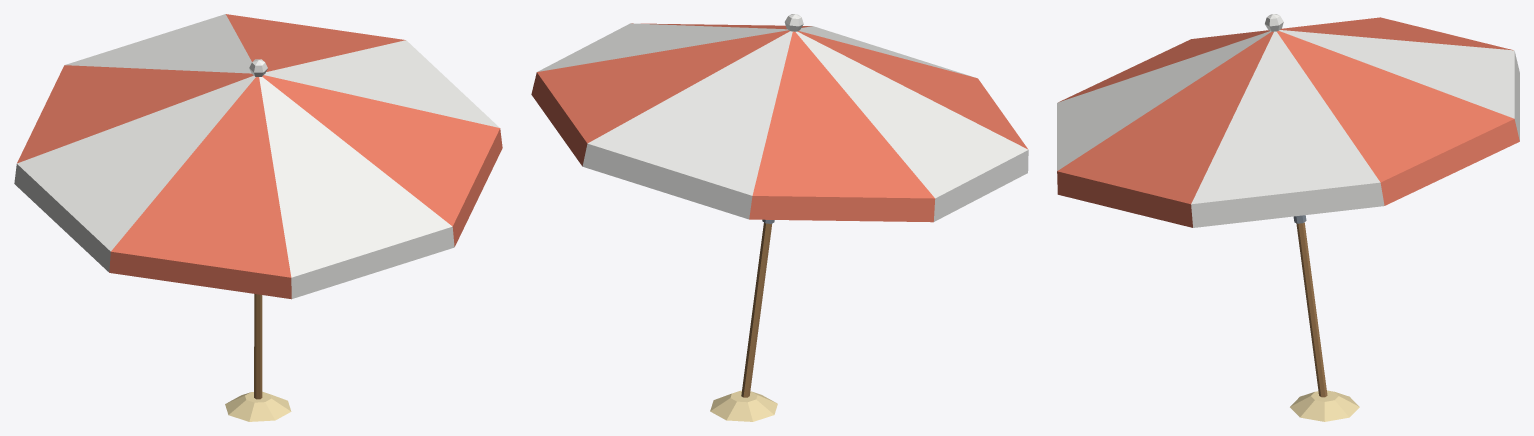
Rendered from beach_umbrella.glb.
The picture shows the model from 3 angles, left to right: view 1: azimuth 30°, elevation 25°; view 2: azimuth 150°, elevation 25°; view 3: azimuth 270°, elevation 25°; orthographic projection. The views are drawn at different scales.
Visible parts, largest first — view 1: Umbrella; view 2: Umbrella; view 3: Umbrella.
Boxes of the visible parts, x1,y1,x2,y2 form: Umbrella: (14, 14, 502, 421); Umbrella: (531, 14, 1028, 421); Umbrella: (1057, 14, 1519, 421).
Size of the model in its own units: 2.65 by 2.39 by 2.63.
